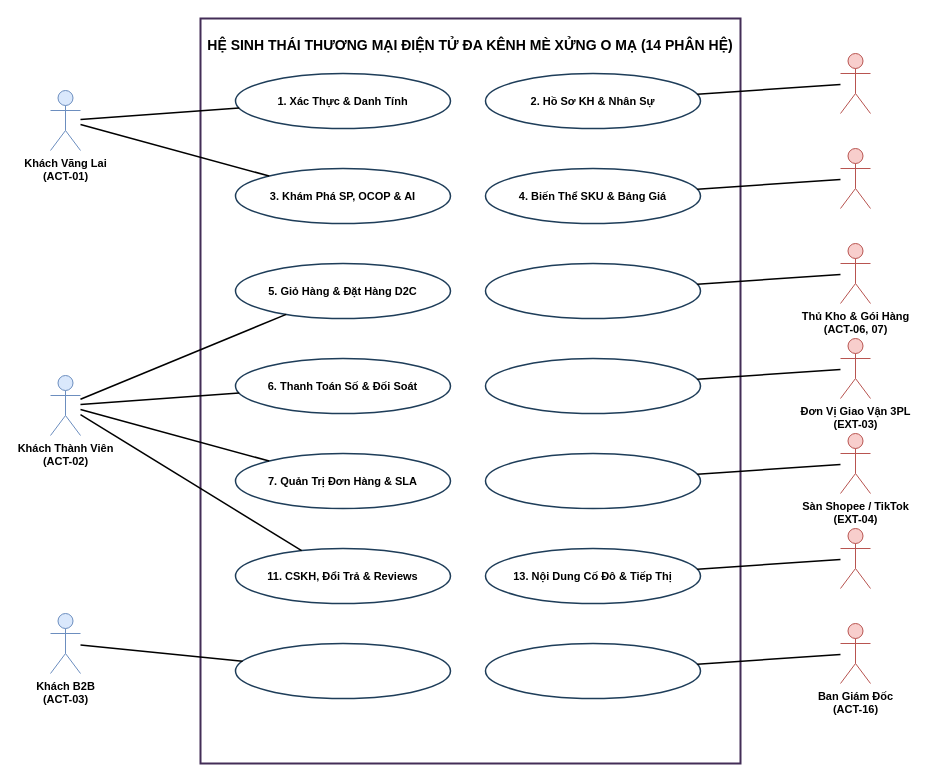
Image size: 927x781. Some labels were removed from this diagram. The centre of each missing label's shape, as x and y in pixels:
"10. Sàn TMĐT & Điểm Bán POS" goes at (x=592, y=480).
"12. Khuyến Mãi & Loyalty B2B" goes at (x=342, y=670).
"14. Kiểm Toán, Tài Chính & DSS" goes at (x=592, y=670).
"8. Kho Lô/HSD (FEFO) & Gói" goes at (x=592, y=290).
"9. Giao Vận & Điều Phối 3PL" goes at (x=592, y=385).
"Quản Lý Kinh Doanh (ACT-12, 14)" goes at (x=855, y=178).
"Quản Lý Tiếp Thị (ACT-13)" goes at (x=855, y=558).
"Quản Trị Hệ Thống (ACT-17)" goes at (x=855, y=83).
